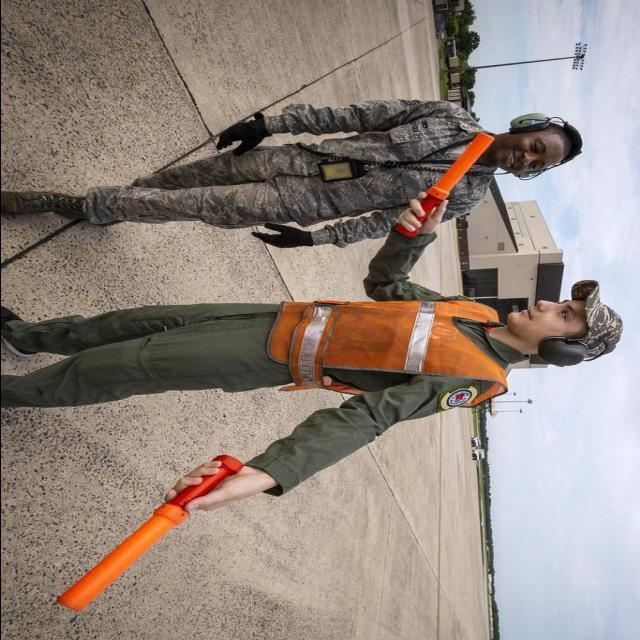jacket: (267, 290, 516, 414)
